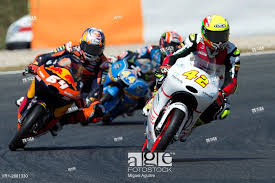helmet: (201, 16, 232, 52), (80, 28, 105, 62), (158, 31, 184, 56)
